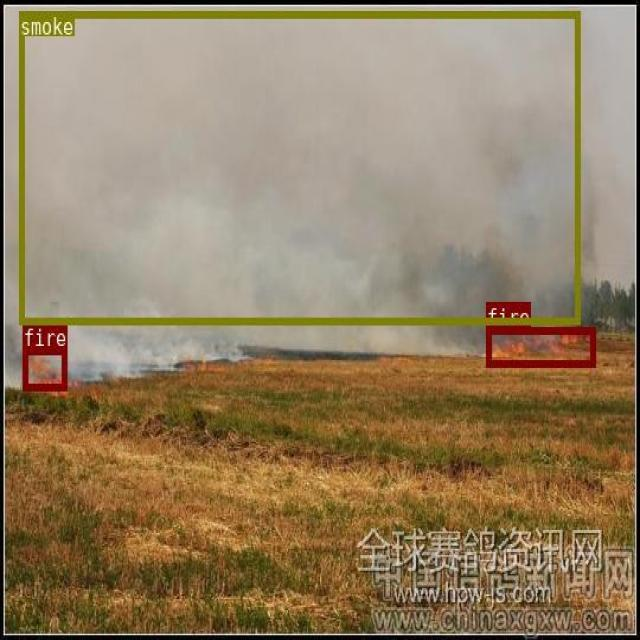fire: (486, 326, 595, 366), (22, 346, 66, 389)
smoke: (18, 11, 579, 323)
